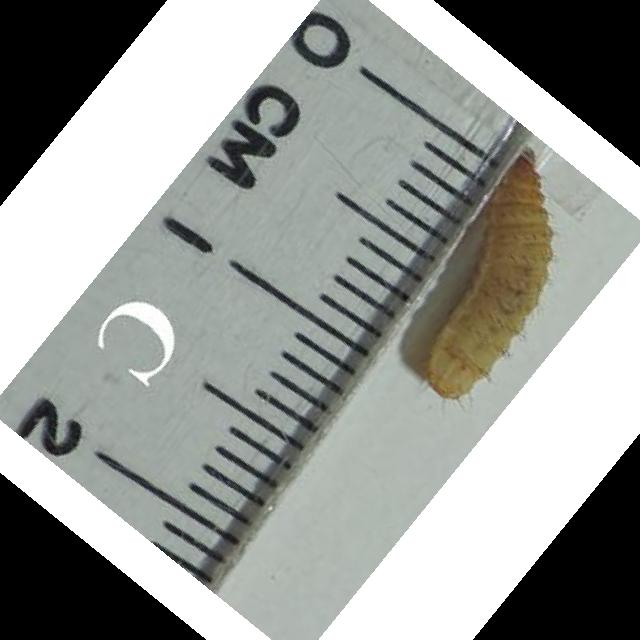Maggot: (425, 147, 549, 398)
